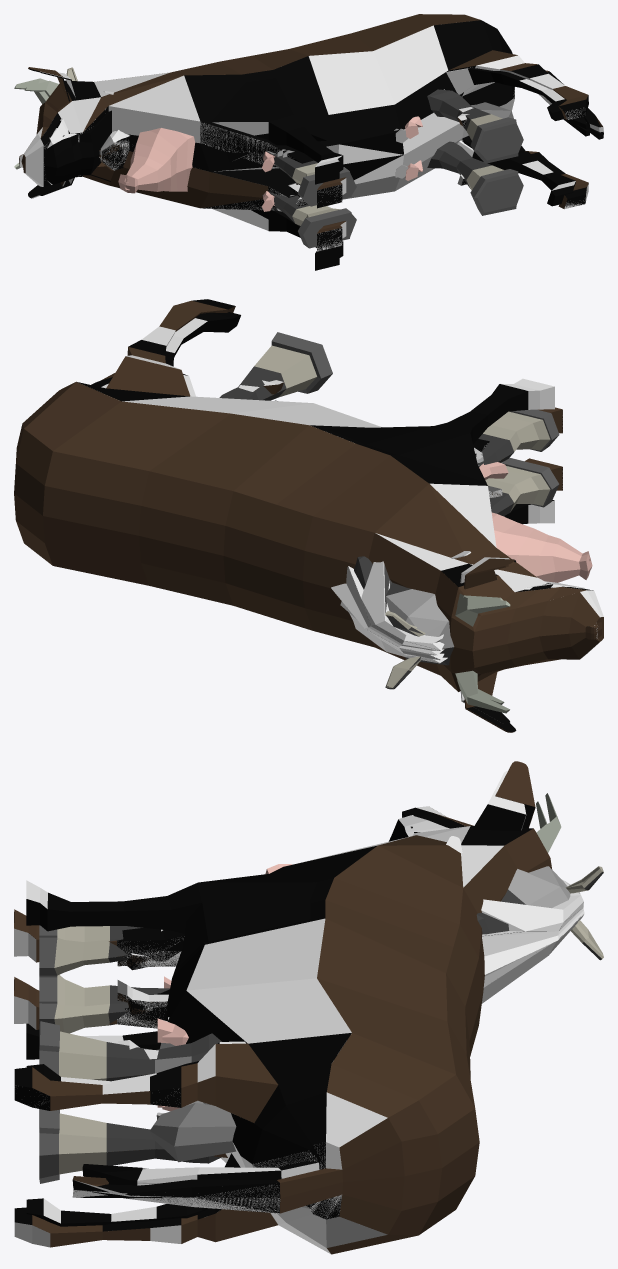
Rendered from animals.fbx.
The picture shows the model from 3 angles, top to bottom: view 1: azimuth 30°, elevation 25°; view 2: azimuth 150°, elevation 25°; view 3: azimuth 270°, elevation 25°; orthographic projection. The views are drawn at different scales.
Visible parts, largest first — view 1: cow02, cow01, cow03, horse02, cow04, pig01, horse01, horse03, horse04, horse05, calf04, calf01; view 2: cow03, horse02, cow02, cow01, pig01, horse05, horse04; view 3: cow03, cow02, cow01, horse02, cow04, horse05, horse04, calf04, pig01, calf01.
Part boxes in pixels (x1=…): cow02: x1=14, y1=20, x2=603, y2=250; cow01: x1=24, y1=66, x2=590, y2=270; cow03: x1=14, y1=14, x2=602, y2=233; horse02: x1=66, y1=67, x2=521, y2=247; cow04: x1=15, y1=65, x2=603, y2=251; pig01: x1=118, y1=116, x2=422, y2=211; horse01: x1=261, y1=123, x2=523, y2=246; horse03: x1=304, y1=123, x2=523, y2=248; horse04: x1=261, y1=110, x2=521, y2=248; horse05: x1=305, y1=124, x2=523, y2=246; calf04: x1=99, y1=89, x2=473, y2=204; calf01: x1=101, y1=119, x2=466, y2=206; cow03: x1=14, y1=300, x2=603, y2=732; horse02: x1=219, y1=332, x2=559, y2=687; cow02: x1=62, y1=299, x2=603, y2=731; cow01: x1=101, y1=312, x2=585, y2=723; pig01: x1=479, y1=462, x2=592, y2=582; horse05: x1=331, y1=468, x2=523, y2=662; horse04: x1=262, y1=341, x2=558, y2=689; cow03: x1=14, y1=761, x2=561, y2=1254; cow02: x1=14, y1=776, x2=555, y2=1247; cow01: x1=26, y1=771, x2=547, y2=1226; horse02: x1=39, y1=866, x2=603, y2=1177; cow04: x1=14, y1=817, x2=402, y2=1253; horse05: x1=39, y1=879, x2=584, y2=1183; horse04: x1=39, y1=867, x2=603, y2=1178; calf04: x1=117, y1=836, x2=462, y2=1119; pig01: x1=157, y1=864, x2=291, y2=1111; calf01: x1=117, y1=954, x2=175, y2=1013.
Bounding box in the file's own units: 192 × 53.23 × 132.
